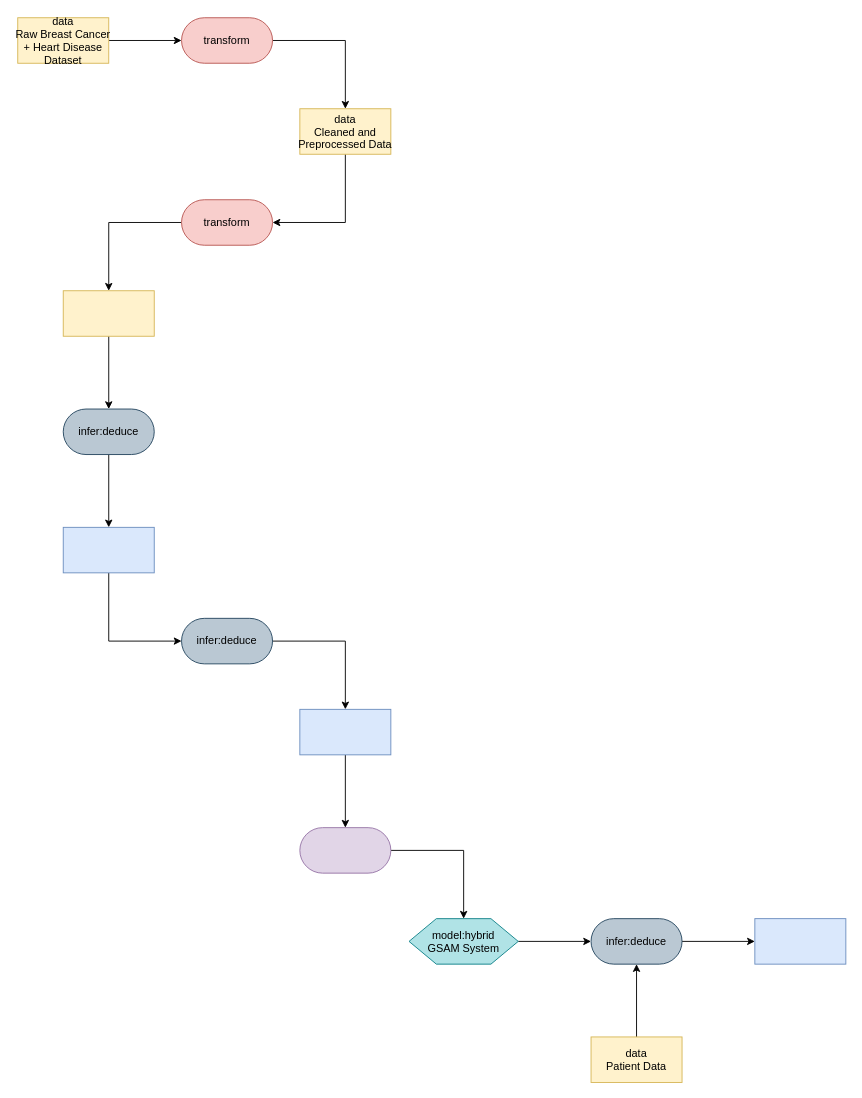
Some shapes in this 862 by 1098 pixel diagram are drawn without their labels. Each missing label, with the centre of its shape:
"data Reduced Datasets" belongs at point (108, 313).
"generate:train" belongs at point (345, 850).
"symbol Clinical Diagnosis" belongs at point (800, 941).
"symbol Fuzzy Rules" belongs at point (108, 549).
"symbol Optimized Rules" belongs at point (345, 731).
